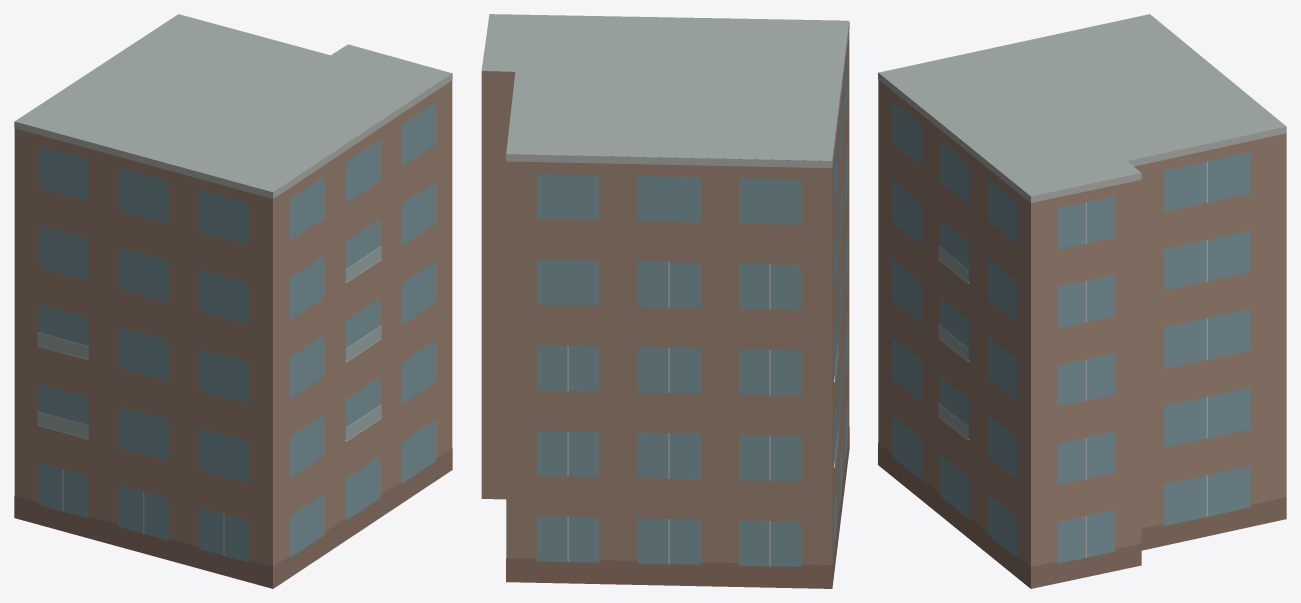
Rendered from survey-upis-32841644.glb.
3 views of the same model, side by side, from view 1: azimuth 30°, elevation 25°; view 2: azimuth 150°, elevation 25°; view 3: azimuth 270°, elevation 25° (orthographic). The views are drawn at different scales.
Visible parts, largest first — view 1: survey-upis-32841644.tmp; view 2: survey-upis-32841644.tmp; view 3: survey-upis-32841644.tmp.
Part boxes in pixels (x1,y1,x2,y2): survey-upis-32841644.tmp: (14,14,452,588); survey-upis-32841644.tmp: (481,14,849,588); survey-upis-32841644.tmp: (878,14,1286,588).
Bounding box in the file's own units: 14.37 × 14.4 × 13.59.
